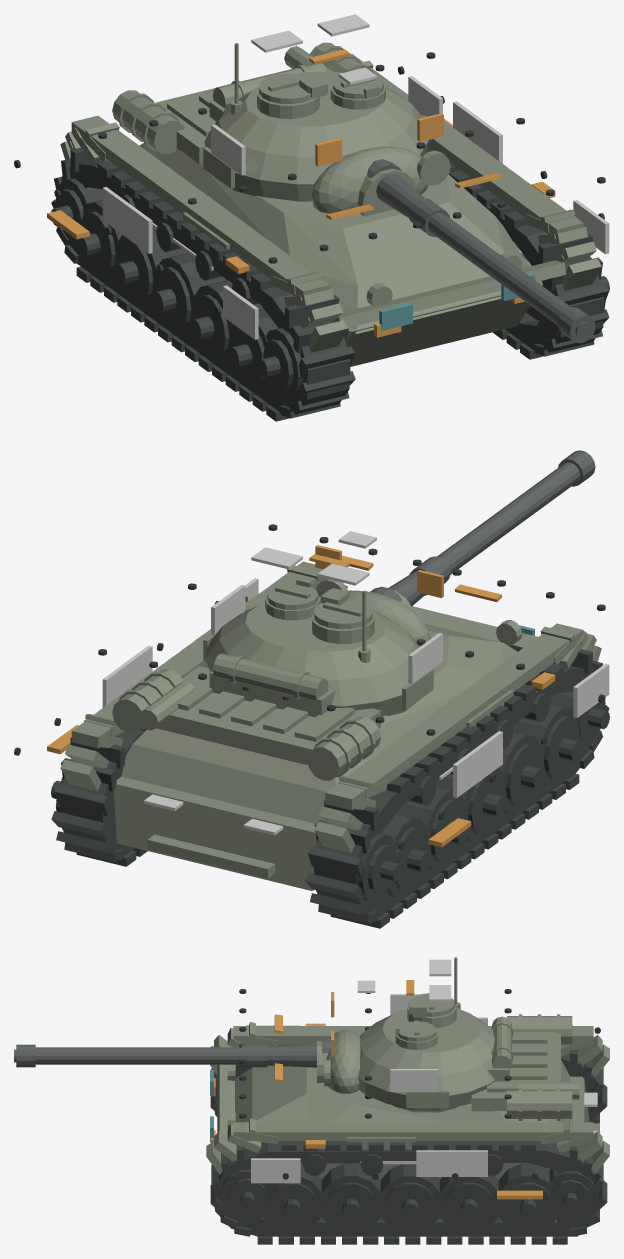
Rendered from light_tank_articulated.glb.
The picture shows the model from 3 angles, top to bottom: view 1: azimuth 30°, elevation 25°; view 2: azimuth 150°, elevation 25°; view 3: azimuth 270°, elevation 25°; orthographic projection. The views are drawn at different scales.
Visible parts, largest first — view 1: BodyRoot_Hull, TrackLeft, TurretRoot_Turret, TrackRight, BarrelRoot_Barrel, TeamColorPanels_Body, TeamColorPanels_Turret, Emissive_Body, Emissive_Turret, Bolts, Glass_Body; view 2: BodyRoot_Hull, TrackLeft, TurretRoot_Turret, TrackRight, BarrelRoot_Barrel, TeamColorPanels_Body, TeamColorPanels_Turret, Emissive_Body, Bolts, Emissive_Turret; view 3: TrackRight, BodyRoot_Hull, TurretRoot_Turret, BarrelRoot_Barrel, TeamColorPanels_Body, TeamColorPanels_Turret, TrackLeft, Emissive_Body, Bolts.
Part boxes in pixels (left/top/right/bottom): BodyRoot_Hull: left=60, top=42, right=601, bottom=366; TrackLeft: left=51, top=147, right=355, bottom=421; TurretRoot_Turret: left=203, top=43, right=450, bottom=216; TrackRight: left=402, top=90, right=609, bottom=359; BarrelRoot_Barrel: left=366, top=159, right=595, bottom=343; TeamColorPanels_Body: left=102, top=101, right=609, bottom=339; TeamColorPanels_Turret: left=211, top=14, right=442, bottom=175; Emissive_Body: left=47, top=119, right=555, bottom=337; Emissive_Turret: left=309, top=49, right=443, bottom=166; Bolts: left=14, top=52, right=605, bottom=314; Glass_Body: left=379, top=273, right=534, bottom=330; BodyRoot_Hull: left=60, top=561, right=601, bottom=890; TrackLeft: left=305, top=649, right=609, bottom=928; TurretRoot_Turret: left=203, top=578, right=433, bottom=717; TrackRight: left=51, top=598, right=252, bottom=866; BarrelRoot_Barrel: left=370, top=450, right=595, bottom=606; TeamColorPanels_Body: left=102, top=578, right=609, bottom=835; TeamColorPanels_Turret: left=211, top=531, right=442, bottom=683; Emissive_Body: left=47, top=555, right=555, bottom=847; Bolts: left=14, top=524, right=605, bottom=849; Emissive_Turret: left=309, top=545, right=443, bottom=598; TrackRight: left=210, top=1141, right=607, bottom=1244; BodyRoot_Hull: left=206, top=1014, right=609, bottom=1180; TurretRoot_Turret: left=317, top=957, right=513, bottom=1112; BarrelRoot_Barrel: left=14, top=1038, right=334, bottom=1067; TeamColorPanels_Body: left=251, top=1017, right=597, bottom=1183; TeamColorPanels_Turret: left=357, top=959, right=451, bottom=1091; TrackLeft: left=210, top=1044, right=607, bottom=1123; Emissive_Body: left=210, top=1014, right=542, bottom=1199; Bolts: left=239, top=989, right=600, bottom=1179.
Size of the model in its own units: 3.56 by 2.3 by 5.98.
